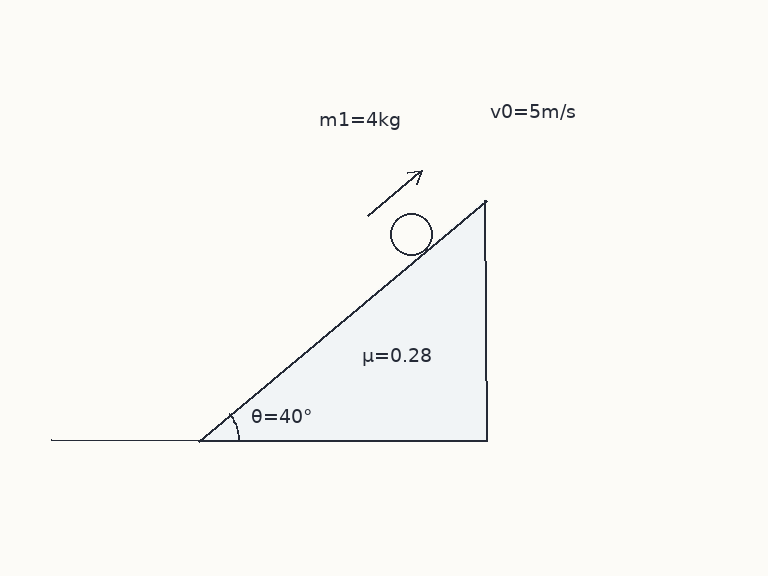ball: (388, 211, 434, 257)
ramp: (197, 198, 487, 442)
